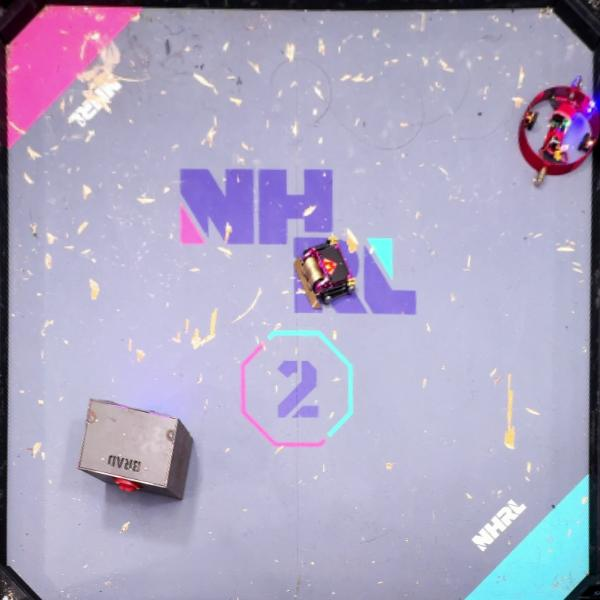housebot: (78, 398, 194, 500)
robot: (517, 74, 600, 184), (294, 242, 355, 310)
